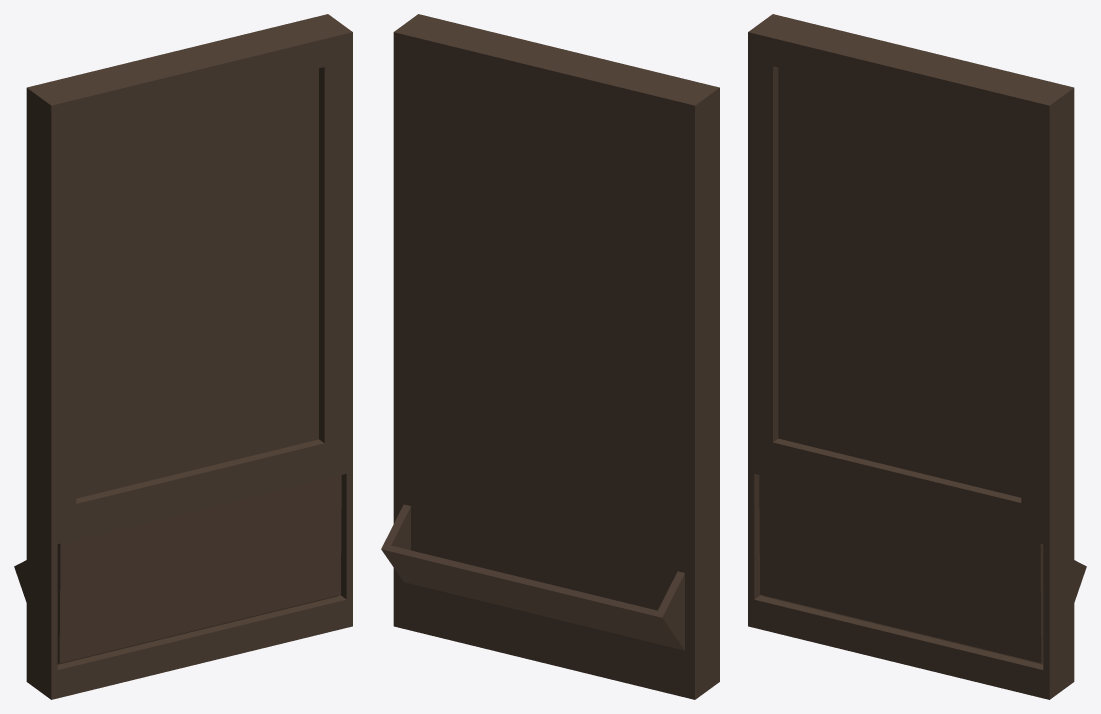
The model's file is PuzzleFrame.fbx.
3 views of the same model, side by side, from view 1: azimuth 30°, elevation 25°; view 2: azimuth 150°, elevation 25°; view 3: azimuth 330°, elevation 25° (orthographic).
Visible parts, largest first — view 1: Marco, Cajon; view 2: Marco, Cajon; view 3: Marco, Cajon.
Boxes of the visible parts, x1,y1,x2,y2 form: Marco: [26, 14, 352, 699]; Cajon: [14, 475, 341, 664]; Marco: [393, 14, 719, 699]; Cajon: [381, 504, 684, 650]; Marco: [748, 14, 1074, 699]; Cajon: [759, 475, 1086, 664].
Size of the model in its own units: 0.7366 by 1.39 by 0.2008.
